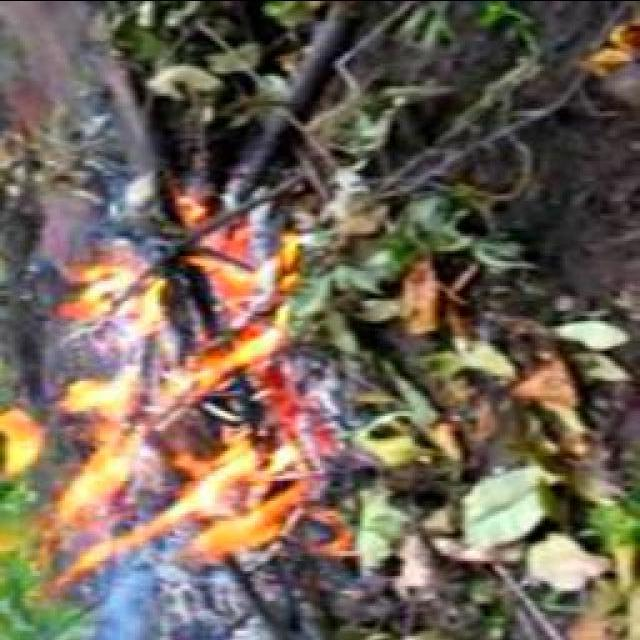Fire: (61, 368, 297, 598), (188, 235, 298, 358), (58, 272, 197, 342)
